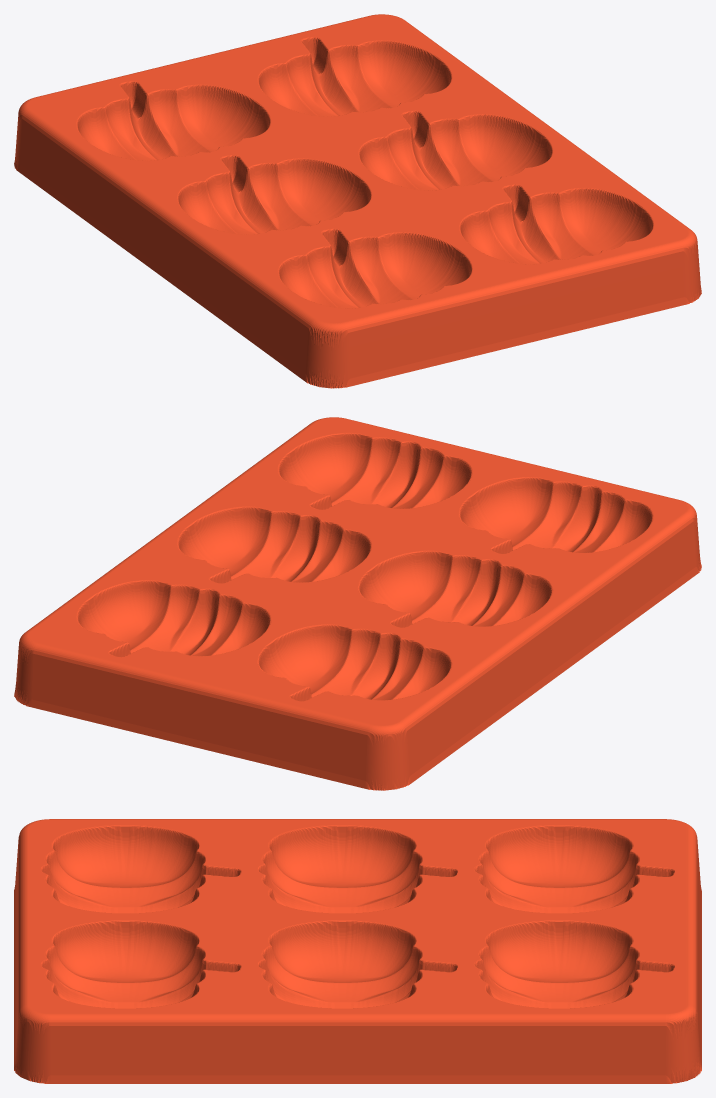
File: mold.glb
3 views of the same model, one above another, from view 1: azimuth 30°, elevation 25°; view 2: azimuth 150°, elevation 25°; view 3: azimuth 270°, elevation 25° (orthographic). The views are drawn at different scales.
Parts seen in each view (by area): view 1: geometry_0; view 2: geometry_0; view 3: geometry_0.
Part boxes in pixels (x1,y1,x2,y2): geometry_0: [14, 14, 701, 388]; geometry_0: [14, 417, 701, 790]; geometry_0: [14, 819, 701, 1083].
Bounding box in the file's own units: 0.1211 × 0.0175 × 0.1709.
